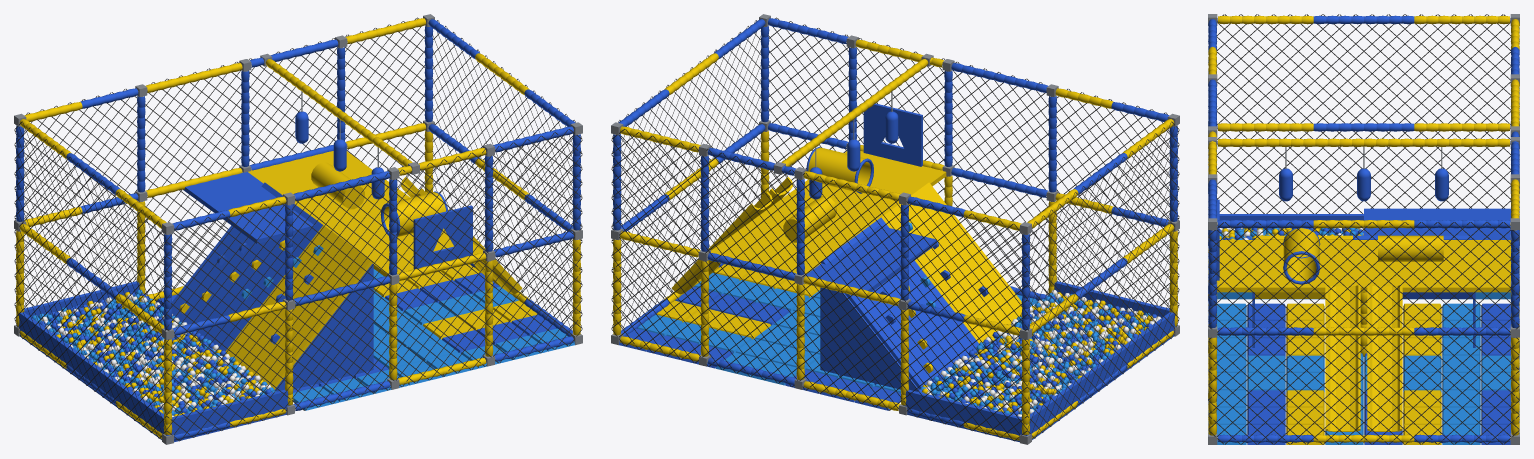
The model's file is mini.glb.
3 renders of one model, left to right at view 1: azimuth 30°, elevation 25°; view 2: azimuth 150°, elevation 25°; view 3: azimuth 270°, elevation 25°, orthographic. The views are drawn at different scales.
Parts seen in each view (by area): view 1: rede, isotubo, plataforma, piso, bolinhas, acolchoado, metal, plastico; view 2: rede, isotubo, plataforma, piso, bolinhas, acolchoado, metal, plastico; view 3: piso, rede, isotubo, plataforma, plastico, acolchoado, metal, bolinhas.
Part boxes in pixels (x1,y1,x2,y2): rede: (14,17,582,441); isotubo: (16,18,580,440); plataforma: (171,151,484,391); piso: (156,264,574,410); bolinhas: (32,289,276,416); acolchoado: (16,111,447,442); metal: (14,14,582,444); plastico: (179,177,522,344); rede: (611,17,1179,441); isotubo: (613,18,1177,440); plataforma: (709,103,1022,391); piso: (619,264,1037,410); bolinhas: (917,290,1161,416); acolchoado: (783,111,1177,442); metal: (611,14,1179,444); plastico: (671,177,988,373); piso: (1208,303,1519,444); rede: (1208,14,1519,444); isotubo: (1208,15,1519,443); plataforma: (1216,199,1511,347); plastico: (1325,284,1402,431); acolchoado: (1217,168,1510,299); metal: (1208,14,1519,444); bolinhas: (1219,228,1363,239).
Bounding box in the file's own units: 0.6 × 0.3 × 0.38.
Materials: 8 (7 with a texture image).
